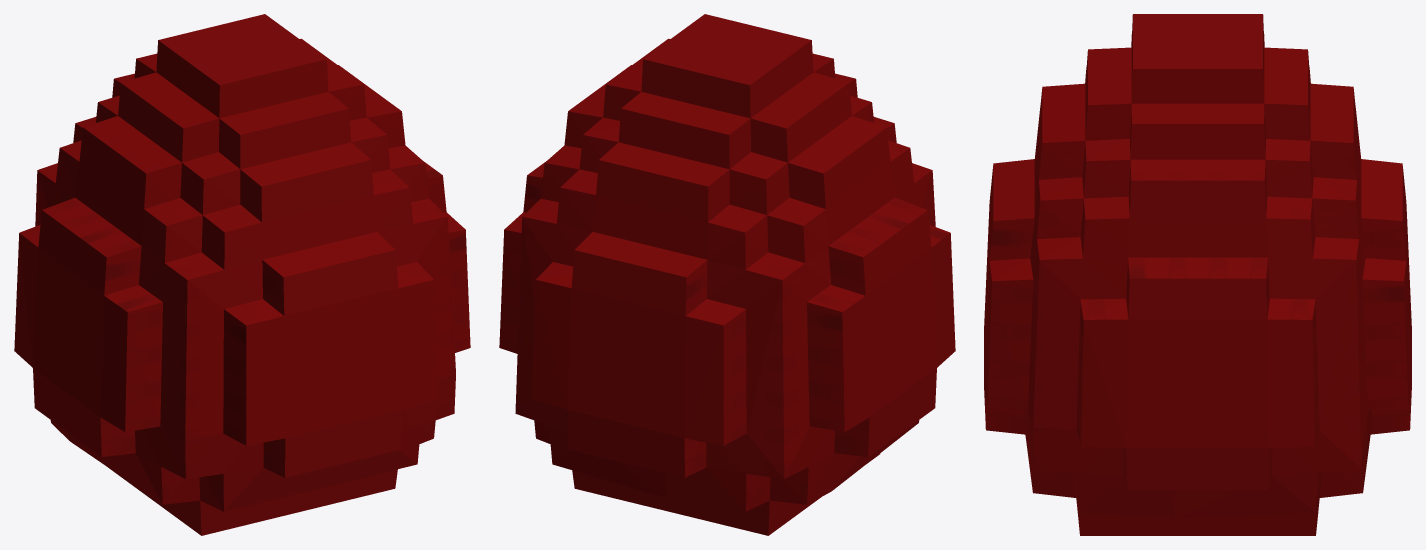
The model's file is egg_z07_02.glb.
3 views of the same model, side by side, from view 1: azimuth 30°, elevation 25°; view 2: azimuth 150°, elevation 25°; view 3: azimuth 270°, elevation 25° (orthographic). The views are drawn at different scales.
Visible parts, largest first — view 1: model_081; view 2: model_081; view 3: model_081.
Part boxes in pixels (bbox=[...]): model_081: bbox=[14, 14, 470, 535]; model_081: bbox=[499, 14, 955, 535]; model_081: bbox=[984, 14, 1411, 535].
Bounding box in the file's own units: 2.63 × 3.02 × 2.63.
1 material, 1 textured.
